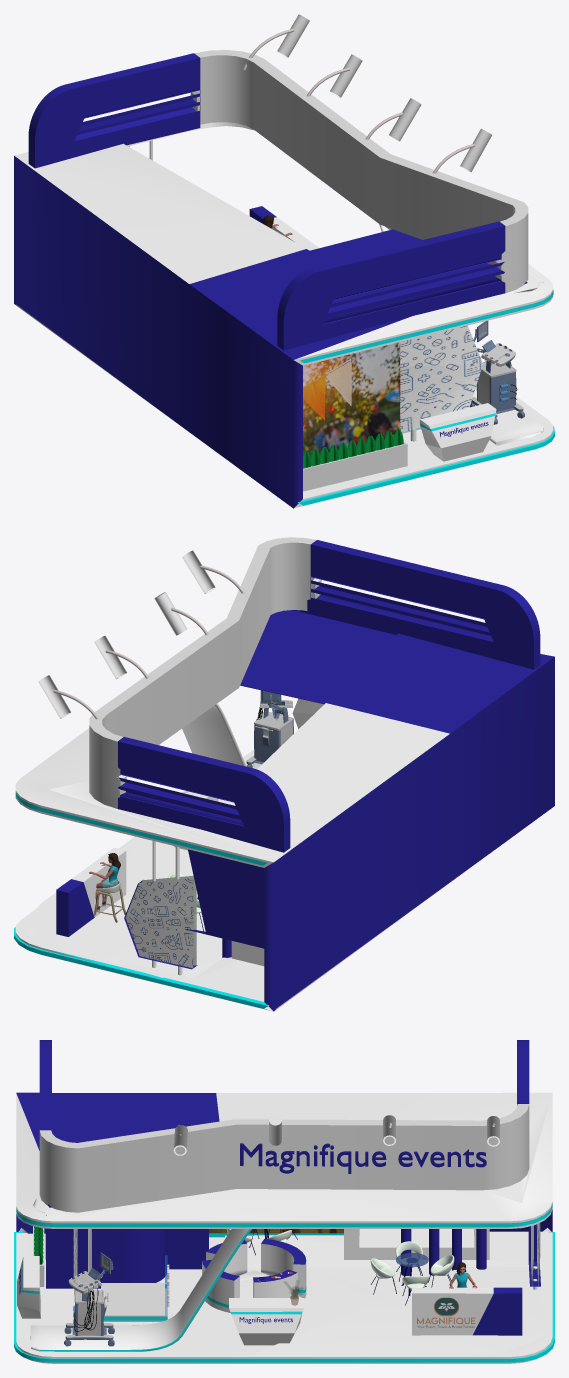
The picture shows the model from 3 angles, top to bottom: view 1: azimuth 30°, elevation 25°; view 2: azimuth 150°, elevation 25°; view 3: azimuth 270°, elevation 25°; orthographic projection. The views are drawn at different scales.
Parts seen in each view (by area): view 1: Cube.015, Plane.003, Cube.022, Cube.002, Cube.012, Cube.003, Cube.004, Cube.006, Archmodels70_032_02, Cube.025, Cube.013, Plane.007 (+2 smaller); view 2: Cube.015, Cube.022, Plane.003, Cube.002, Cube.012, Plane.001, Cube.018, NurbsPath, Archmodels70_032_02, Cube.013, Cube.008, Cube.007 (+6 smaller); view 3: Plane.003, Cube.002, Cube.022, Cube.003, NurbsPath, Cylinder.008, Cube.007, Cube.013, Cube.005, Cube.009, Archmodels70_032_02, Cube.001 (+14 smaller).
Boxes of the visible parts, x1=… form: Cube.015: x1=14, y1=156, x2=302, y2=508; Plane.003: x1=14, y1=122, x2=553, y2=508; Cube.022: x1=189, y1=221, x2=527, y2=366; Cube.002: x1=190, y1=50, x2=528, y2=293; Cube.012: x1=28, y1=53, x2=200, y2=168; Cube.003: x1=303, y1=342, x2=400, y2=457; Cube.004: x1=400, y1=325, x2=482, y2=441; Cube.006: x1=420, y1=403, x2=496, y2=461; Archmodels70_032_02: x1=470, y1=320, x2=524, y2=424; Cube.025: x1=303, y1=441, x2=407, y2=491; Cube.013: x1=298, y1=426, x2=554, y2=505; Plane.007: x1=303, y1=429, x2=403, y2=468; Cube.015: x1=264, y1=657, x2=554, y2=1011; Cube.022: x1=240, y1=540, x2=554, y2=733; Plane.003: x1=15, y1=653, x2=552, y2=1011; Cube.002: x1=89, y1=537, x2=321, y2=808; Cube.012: x1=117, y1=737, x2=290, y2=852; Plane.001: x1=186, y1=849, x2=264, y2=948; Cube.018: x1=125, y1=878, x2=193, y2=968; NurbsPath: x1=182, y1=703, x2=261, y2=769; Archmodels70_032_02: x1=246, y1=690, x2=293, y2=767; Cube.013: x1=14, y1=927, x2=269, y2=1008; Cube.008: x1=56, y1=879, x2=94, y2=936; Cube.007: x1=72, y1=847, x2=126, y2=917; Plane.003: x1=16, y1=1092, x2=552, y2=1363; Cube.002: x1=39, y1=1104, x2=529, y2=1212; Cube.022: x1=16, y1=1040, x2=219, y2=1207; Cube.003: x1=45, y1=1228, x2=167, y2=1288; NurbsPath: x1=30, y1=1229, x2=252, y2=1351; Cylinder.008: x1=202, y1=1243, x2=306, y2=1312; Cube.007: x1=412, y1=1287, x2=493, y2=1335; Cube.013: x1=14, y1=1232, x2=554, y2=1362; Cube.005: x1=229, y1=1298, x2=303, y2=1345; Cube.009: x1=344, y1=1229, x2=489, y2=1259; Archmodels70_032_02: x1=64, y1=1252, x2=114, y2=1346; Cube.001: x1=16, y1=1204, x2=552, y2=1227.
Size of the model in its own units: 6.54 by 5.49 by 11.26.
Materials: 45 (11 with a texture image).
